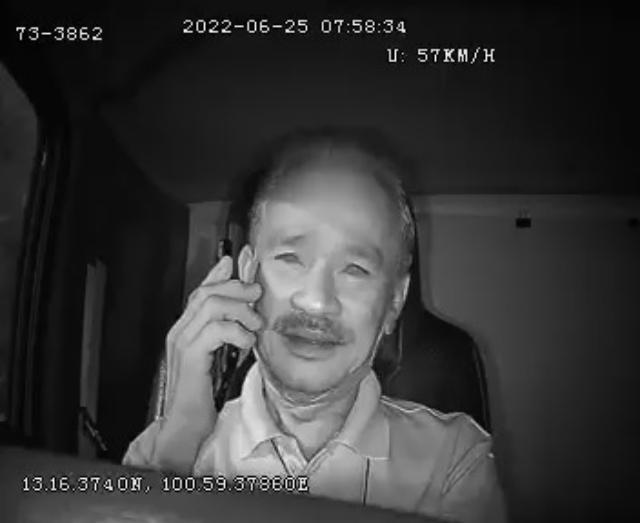PhoneUse: (205, 233, 247, 415)
SafeDriving: (333, 249, 379, 288), (264, 236, 311, 274)
